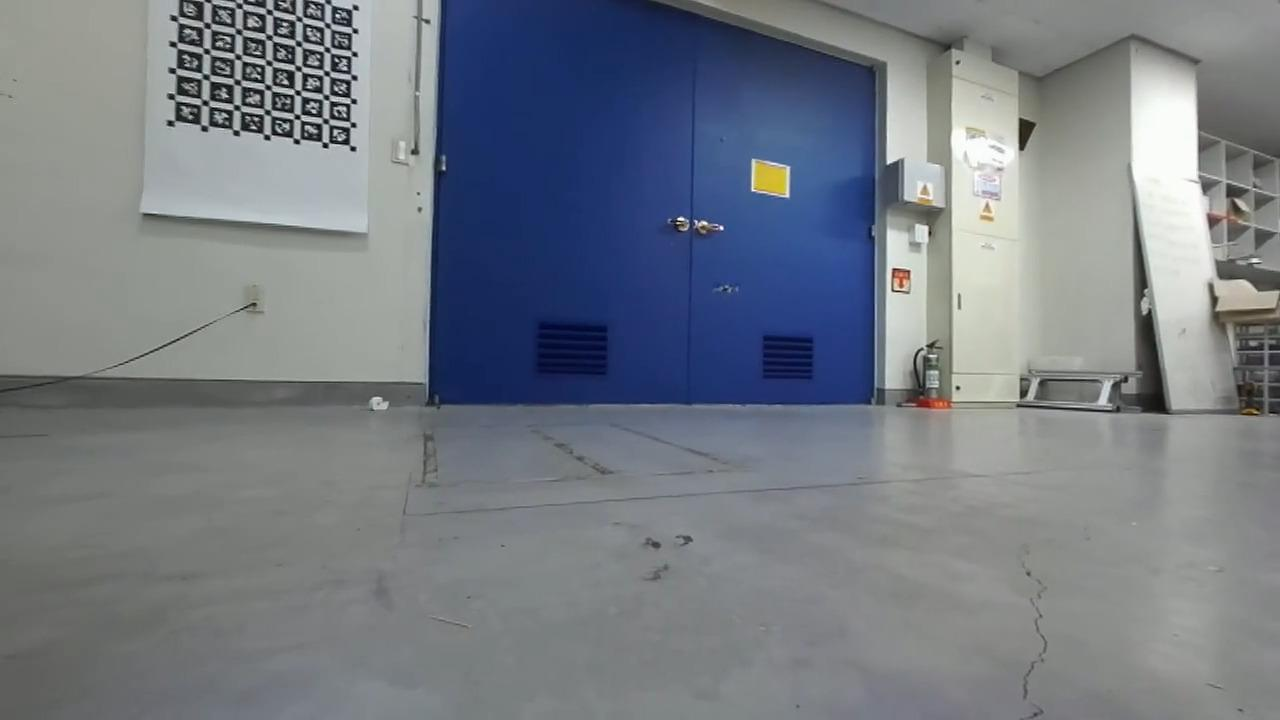crazyflie: (705, 277, 745, 299)
